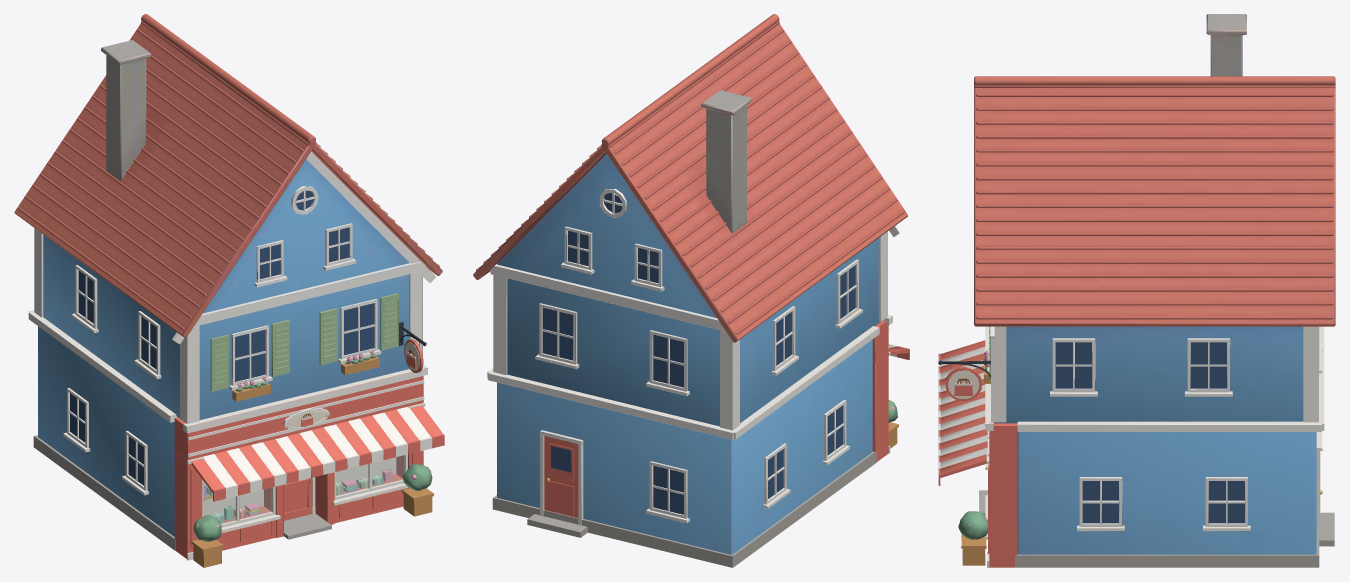
The model's file is shop-front-light.glb.
The picture shows the model from 3 angles, left to right: view 1: azimuth 30°, elevation 25°; view 2: azimuth 150°, elevation 25°; view 3: azimuth 270°, elevation 25°; orthographic projection. The views are drawn at different scales.
Visible parts, largest first — view 1: shop-front_body, shop-front_details, shop-front_shop_glass, shop-front_plants, shop-front_door; view 2: shop-front_body, shop-front_details; view 3: shop-front_body, shop-front_details, shop-front_plants.
Part boxes in pixels (x1=…): shop-front_body: x1=14, y1=14, x2=442, y2=538; shop-front_details: x1=28, y1=151, x2=444, y2=567; shop-front_shop_glass: x1=204, y1=455, x2=404, y2=523; shop-front_plants: x1=193, y1=464, x2=432, y2=541; shop-front_door: x1=284, y1=478, x2=312, y2=520; shop-front_body: x1=473, y1=14, x2=907, y2=565; shop-front_details: x1=487, y1=189, x2=909, y2=567; shop-front_body: x1=974, y1=14, x2=1335, y2=554; shop-front_details: x1=938, y1=326, x2=1334, y2=567; shop-front_plants: x1=958, y1=511, x2=987, y2=539.
Size of the model in its own units: 7.24 by 10.98 by 8.83.
Materials: 24 (1 with a texture image).
